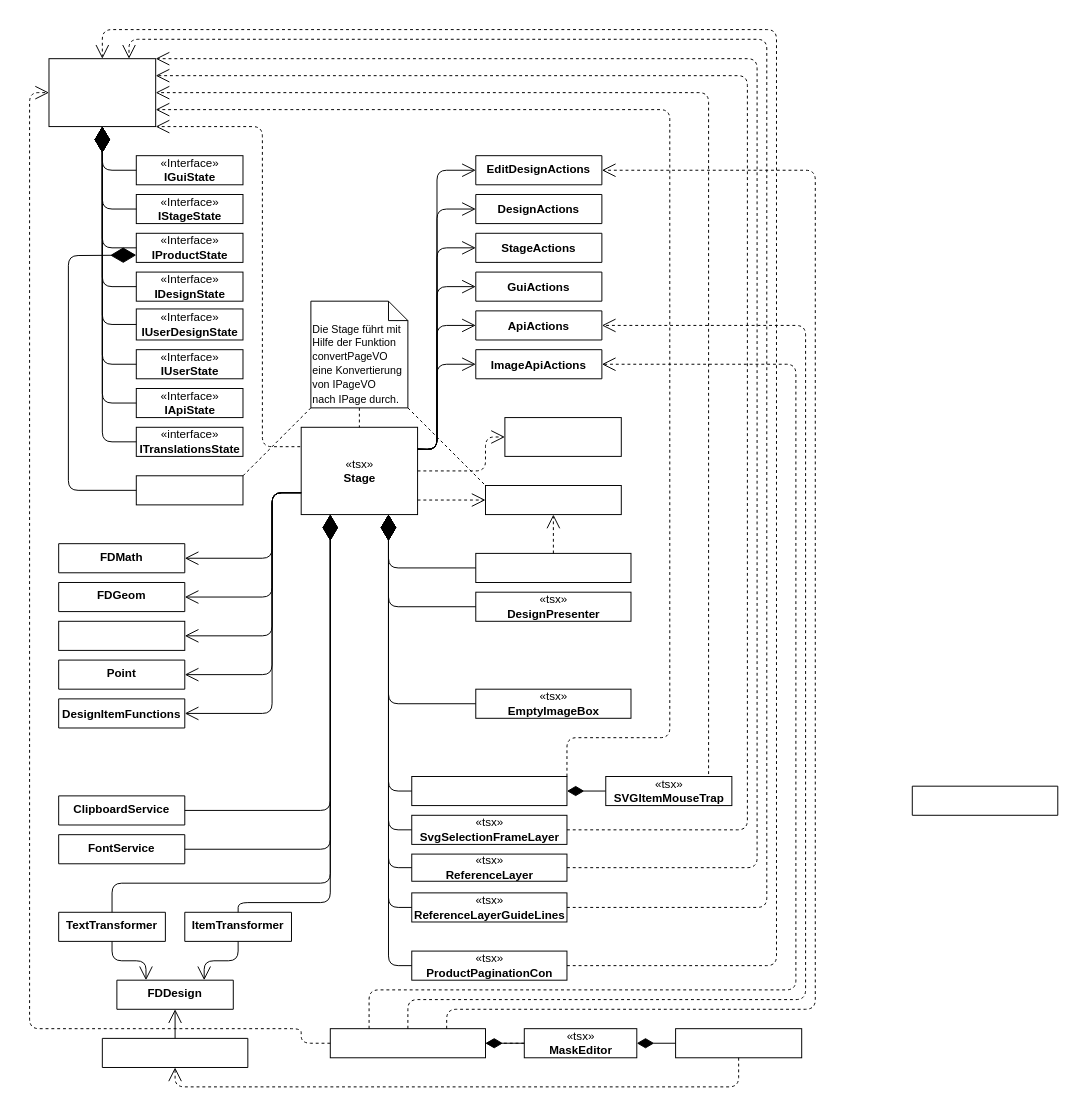
The diagram is 1075 pixels wide and 1117 high, and some of its shapes have lost their labels. The centre of each missing label's shape, as x and y in pixels:
DesignItemBuilder: [984,800]
ImageMaskTransformer: [174,1052]
Rectangle: [121,635]
«Interface» IApplicationState: [102,92]
«Interface» ICalendarSettings: [562,436]
«Interface» IPage: [553,500]
«Interface» IPageVO: [189,490]
«tsx» ImageMaskContent: [738,1043]
«tsx» ImageMaskEditor: [407,1043]
«tsx» PagePresenter: [553,567]
«tsx» SVGSelectionLayer: [489,791]
